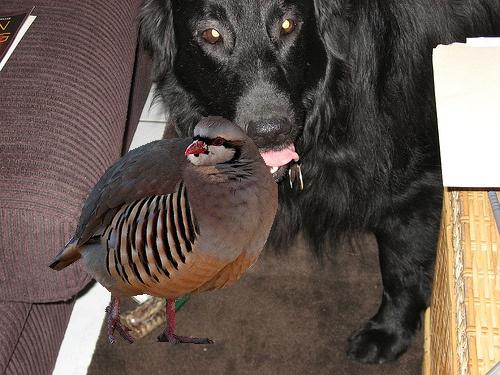tampered: (49, 117, 278, 344)
